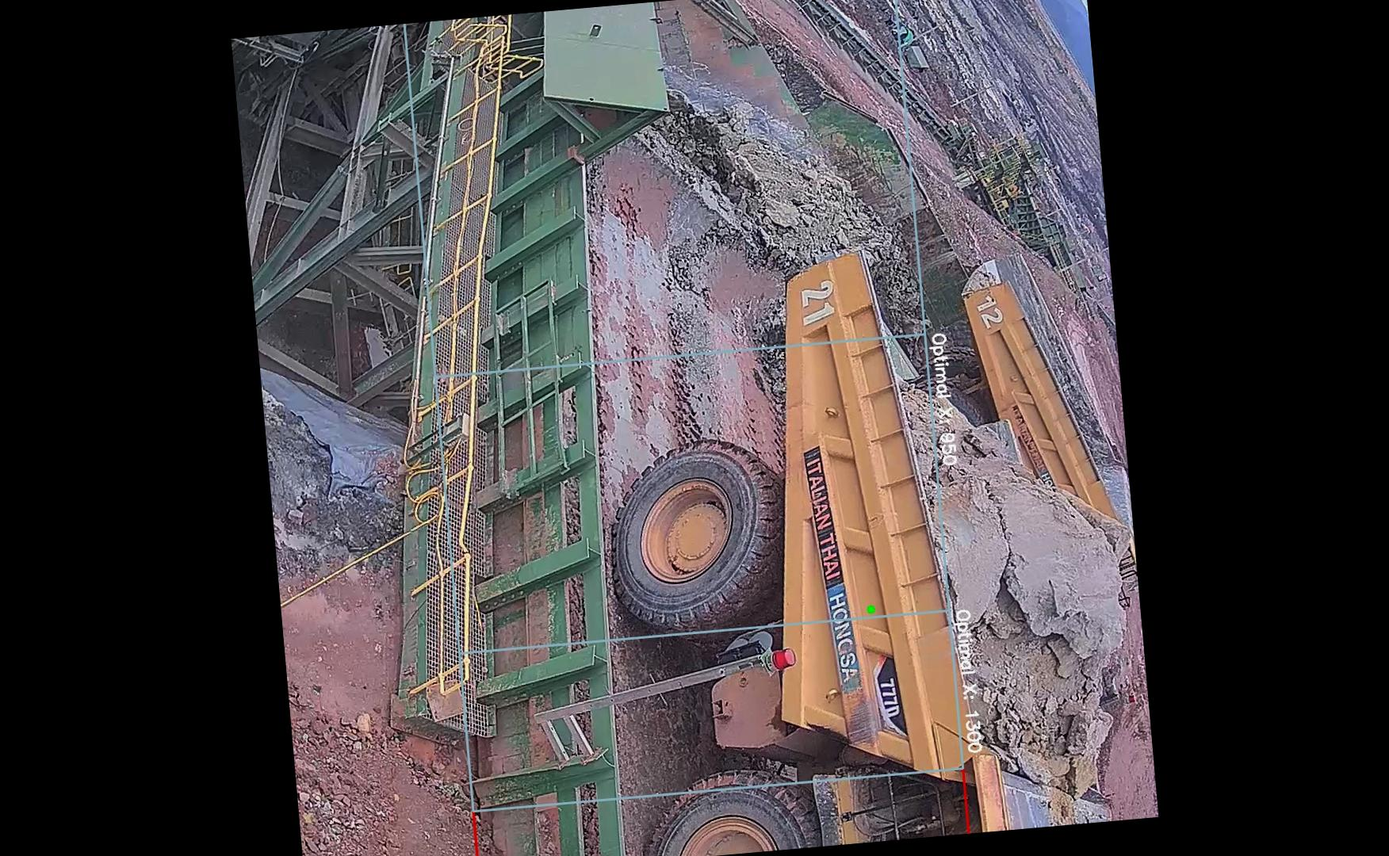company: (796, 435, 877, 697)
full_load: (897, 385, 1150, 778)
mining_truck: (567, 220, 1158, 856)
tail_number: (783, 275, 849, 330)
truck_size: (870, 648, 916, 736)
